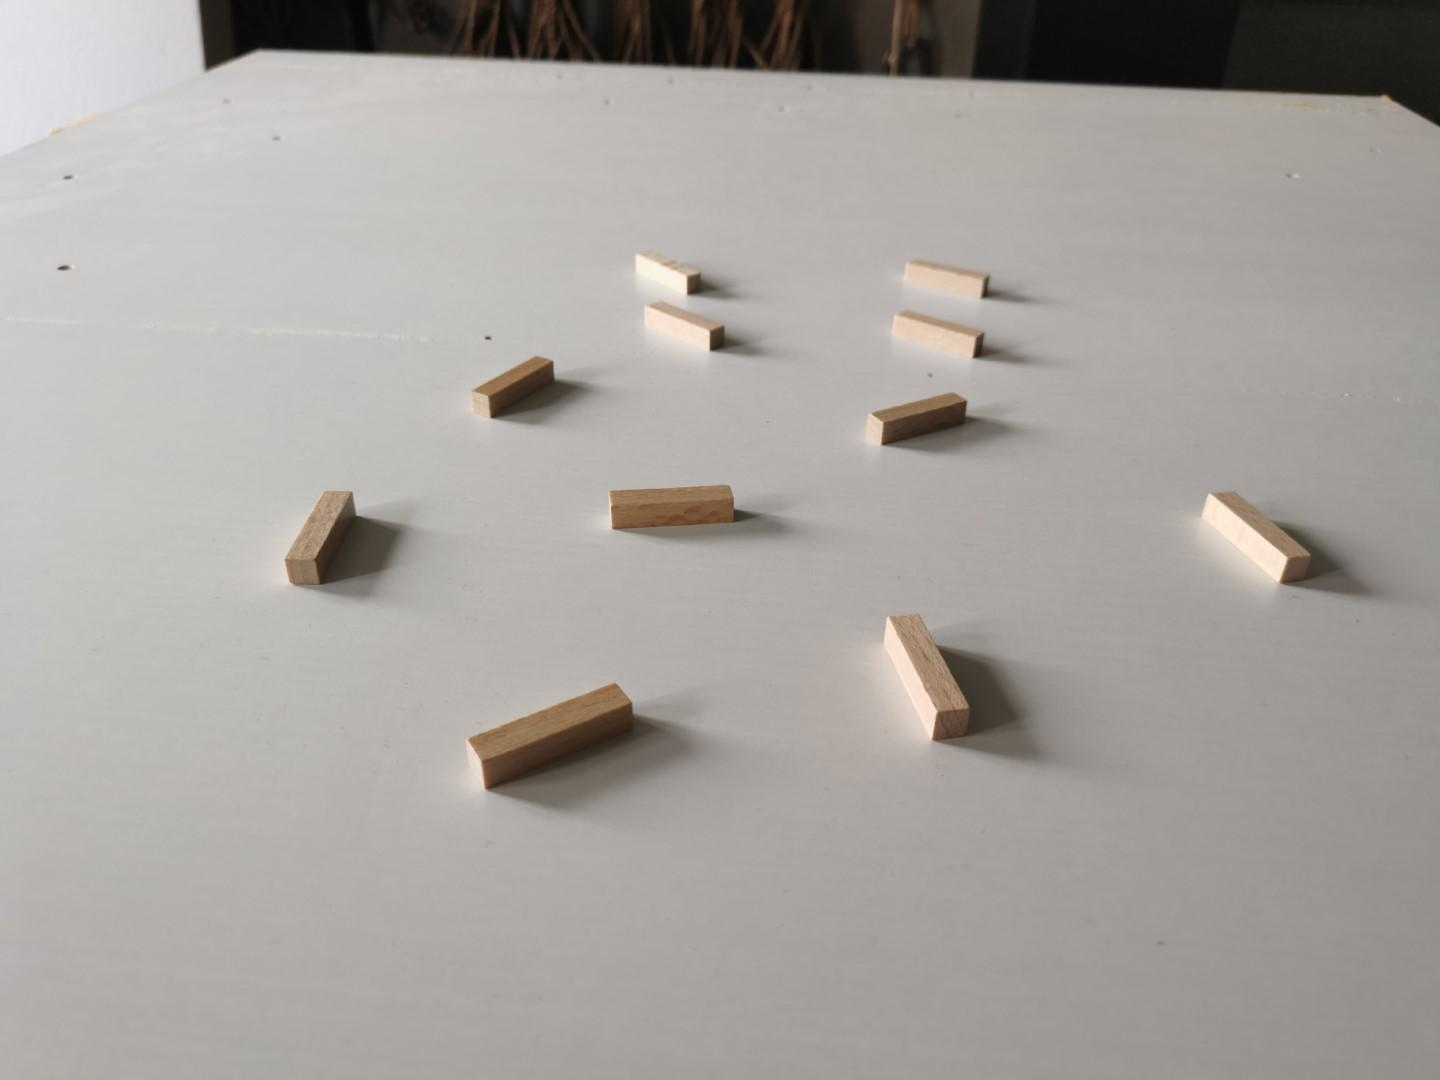jenga: (468, 684, 633, 788), (886, 613, 971, 740), (1206, 491, 1313, 582), (283, 491, 354, 584), (611, 486, 735, 529), (869, 393, 967, 444), (472, 355, 553, 416), (895, 309, 986, 356), (645, 299, 725, 349), (905, 258, 989, 296), (635, 250, 701, 293)
